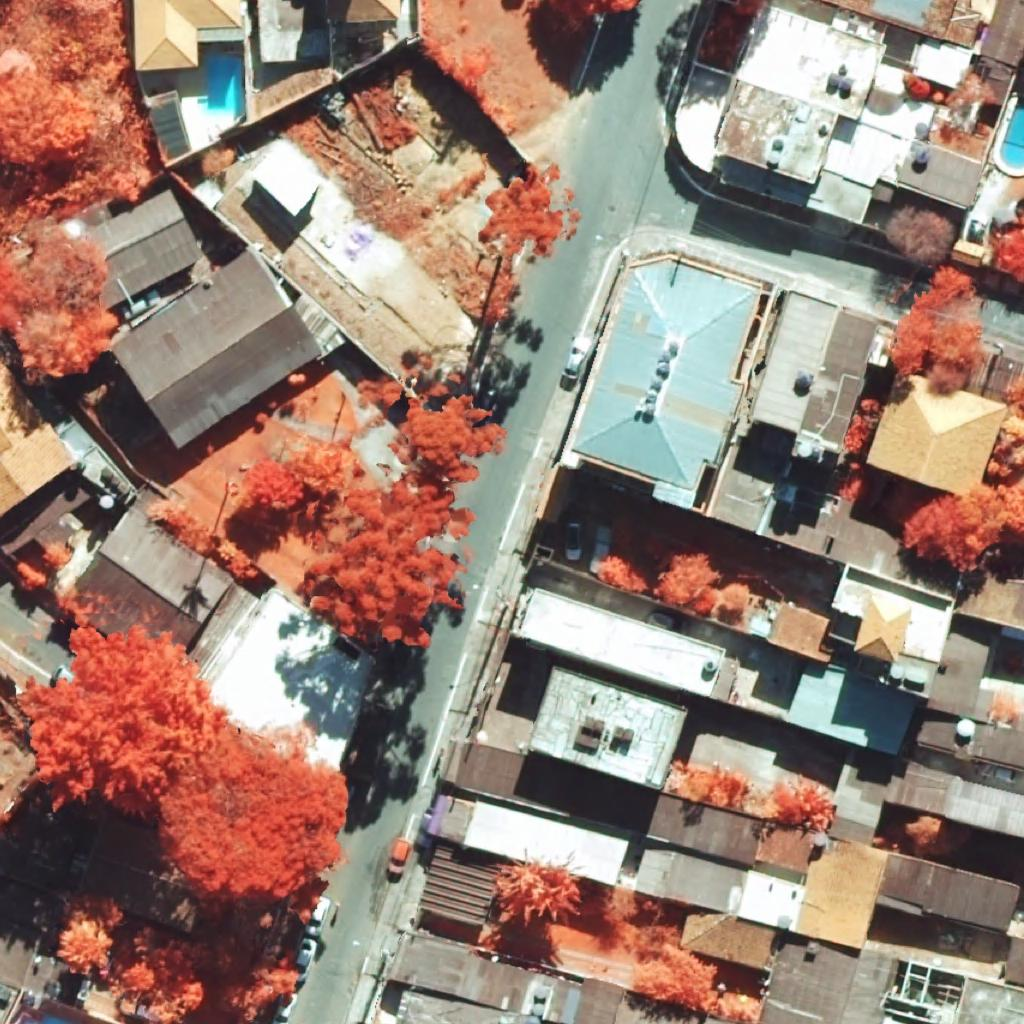pool: (207, 55, 245, 123), (1000, 96, 1024, 169)
